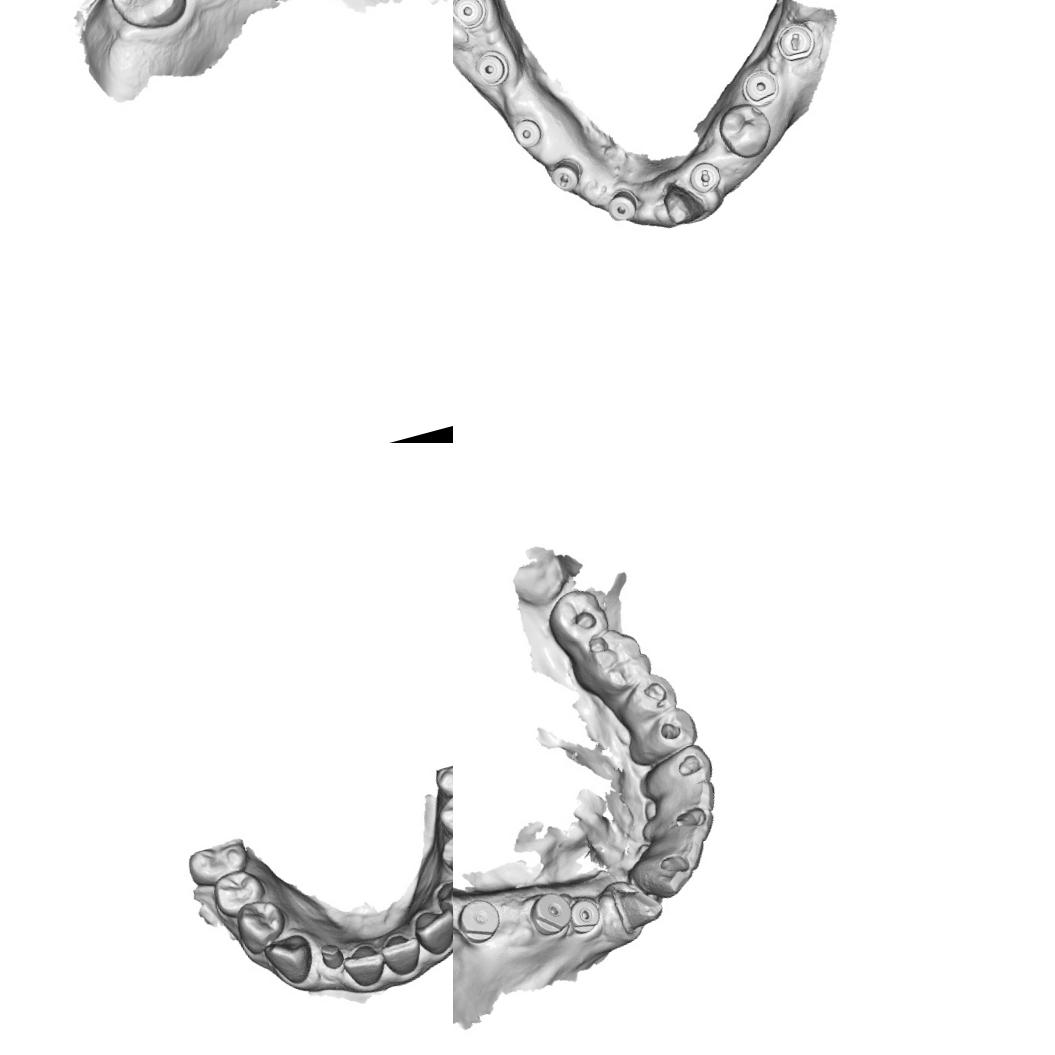abutment: (314, 936, 349, 975)
canine: (632, 739, 718, 806), (258, 928, 322, 991), (429, 868, 453, 932)
crown: (604, 868, 671, 938), (649, 175, 710, 235)
implant: (522, 886, 576, 942), (453, 892, 505, 949), (562, 891, 606, 940), (736, 65, 782, 110), (471, 45, 513, 89), (601, 184, 642, 227), (507, 112, 546, 152), (453, 0, 490, 33)
implant_minus: (770, 15, 820, 66), (681, 154, 728, 201), (544, 154, 588, 198)
incisor: (634, 798, 723, 858), (333, 930, 396, 998), (629, 844, 698, 906), (644, 822, 714, 882), (640, 774, 720, 825), (372, 924, 427, 982), (407, 900, 453, 960)
molar: (570, 618, 661, 708), (537, 580, 616, 660), (182, 833, 255, 890), (96, 0, 192, 38), (428, 743, 453, 803)
premolar: (618, 702, 705, 770), (602, 664, 684, 735), (712, 95, 779, 166), (228, 892, 294, 960), (205, 860, 273, 924), (429, 818, 453, 886), (431, 781, 453, 841)
